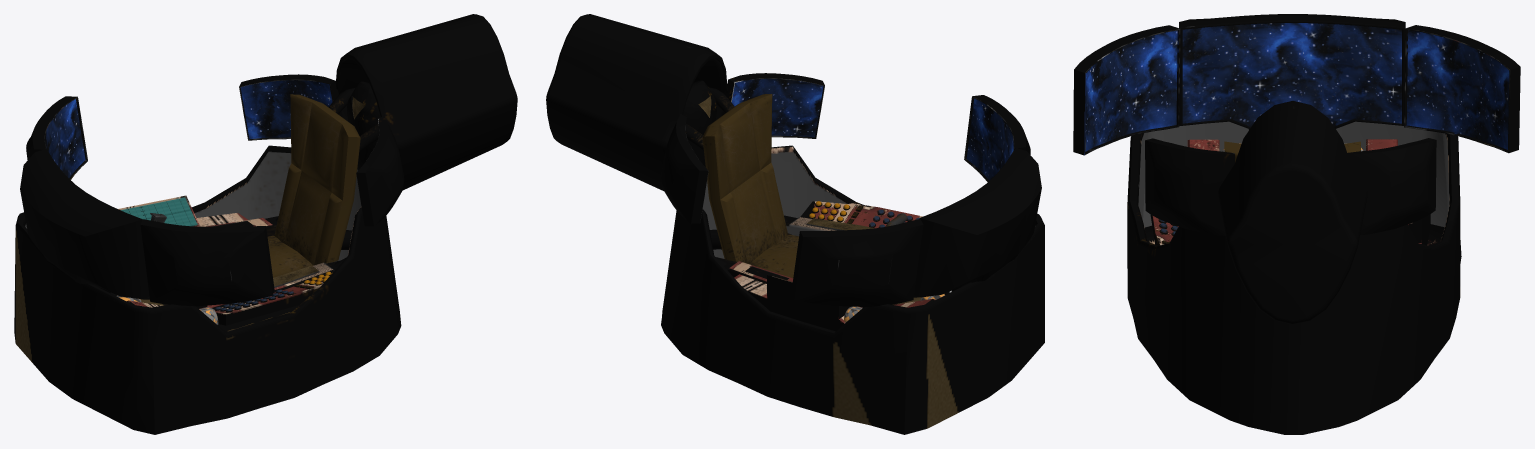
3 views of the same model, side by side, from view 1: azimuth 30°, elevation 25°; view 2: azimuth 150°, elevation 25°; view 3: azimuth 270°, elevation 25° (orthographic). The views are drawn at different scales.
Visible parts, largest first — view 1: polySurface128_lambert1_0; view 2: polySurface128_lambert1_0; view 3: polySurface128_lambert1_0.
Boxes of the visible parts, left/top/right/bottom form: polySurface128_lambert1_0: left=14, top=14, right=517, bottom=434; polySurface128_lambert1_0: left=546, top=14, right=1044, bottom=434; polySurface128_lambert1_0: left=1073, top=14, right=1520, bottom=434.
Bounding box in the file's own units: 10053 × 5735 × 7256.
Materials: 1 (1 with a texture image).
